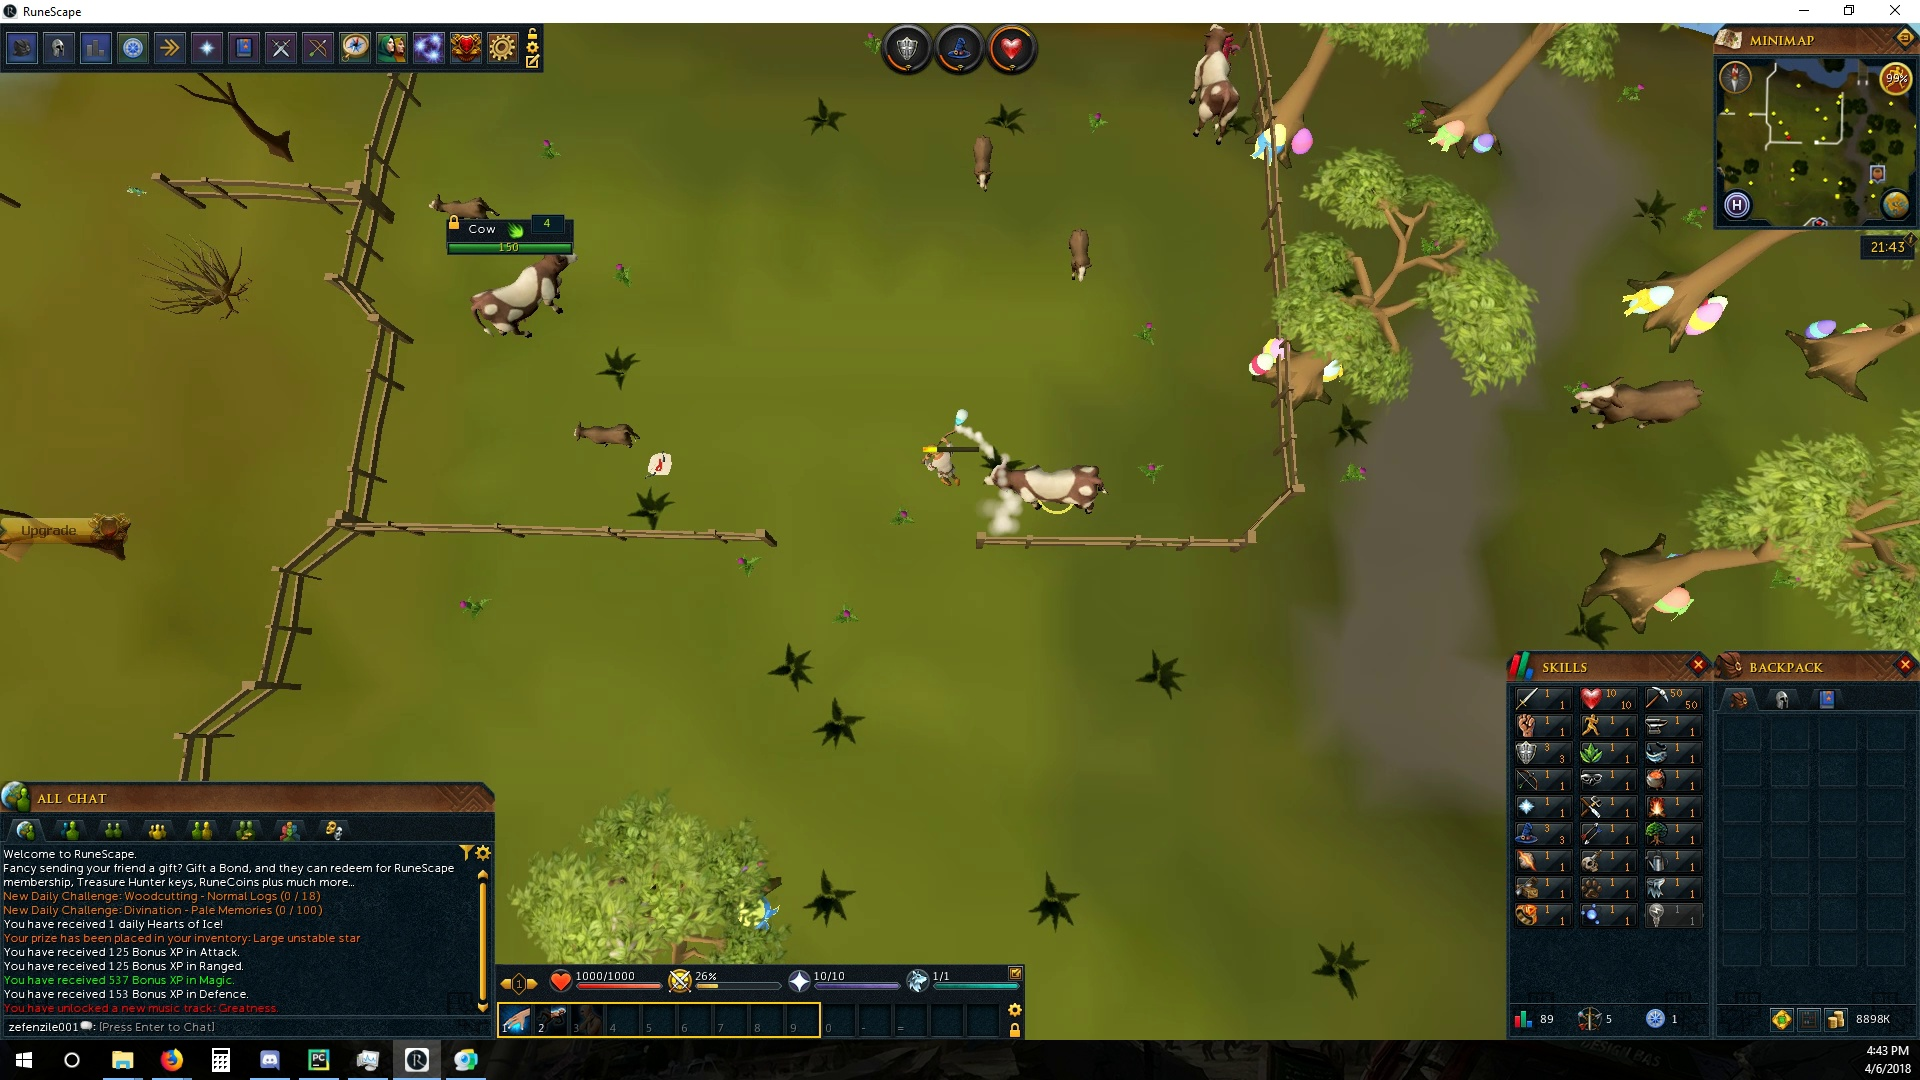calf: (574, 419, 647, 454), (425, 195, 506, 222), (1065, 225, 1095, 285), (971, 131, 996, 196)
cow: (469, 255, 585, 348), (971, 459, 1112, 524), (1179, 22, 1247, 150), (1567, 371, 1706, 433)
cow_drop: (645, 452, 673, 477)
